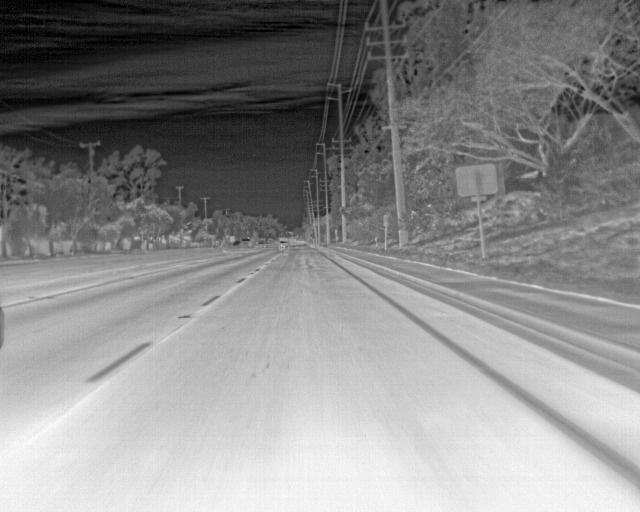car: (276, 237, 290, 250), (256, 236, 269, 248)
